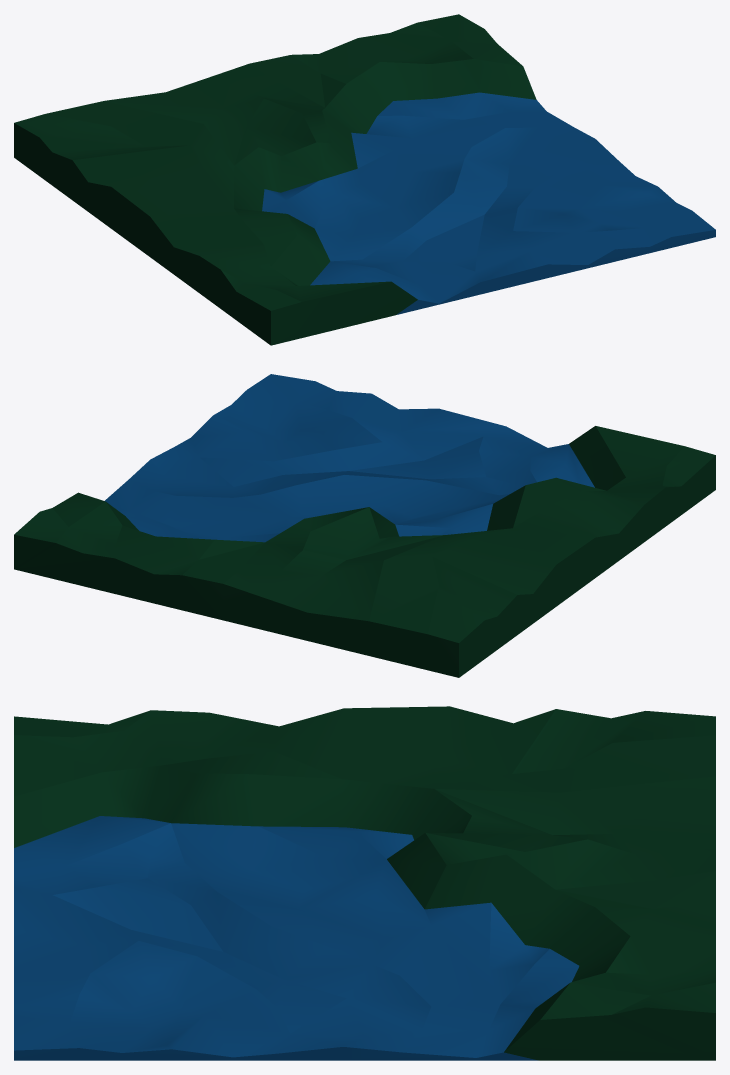
The model's file is Water_Round_LU.fbx.
3 renders of one model, top to bottom at view 1: azimuth 30°, elevation 25°; view 2: azimuth 150°, elevation 25°; view 3: azimuth 270°, elevation 25°, orthographic. The views are drawn at different scales.
Visible parts, largest first — view 1: Water_Round_LU; view 2: Water_Round_LU; view 3: Water_Round_LU.
Boxes of the visible parts, bbox=[...] form: Water_Round_LU: bbox=[14, 14, 715, 345]; Water_Round_LU: bbox=[14, 374, 715, 677]; Water_Round_LU: bbox=[14, 706, 715, 1060].
Bounding box in the file's own units: 147 × 14.69 × 147.
